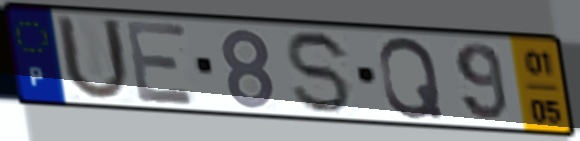8: (218, 25, 278, 111)
9: (451, 40, 511, 124)
E: (121, 18, 200, 108)
Q: (376, 34, 447, 121)
S: (284, 28, 357, 116)
U: (52, 11, 134, 105)
